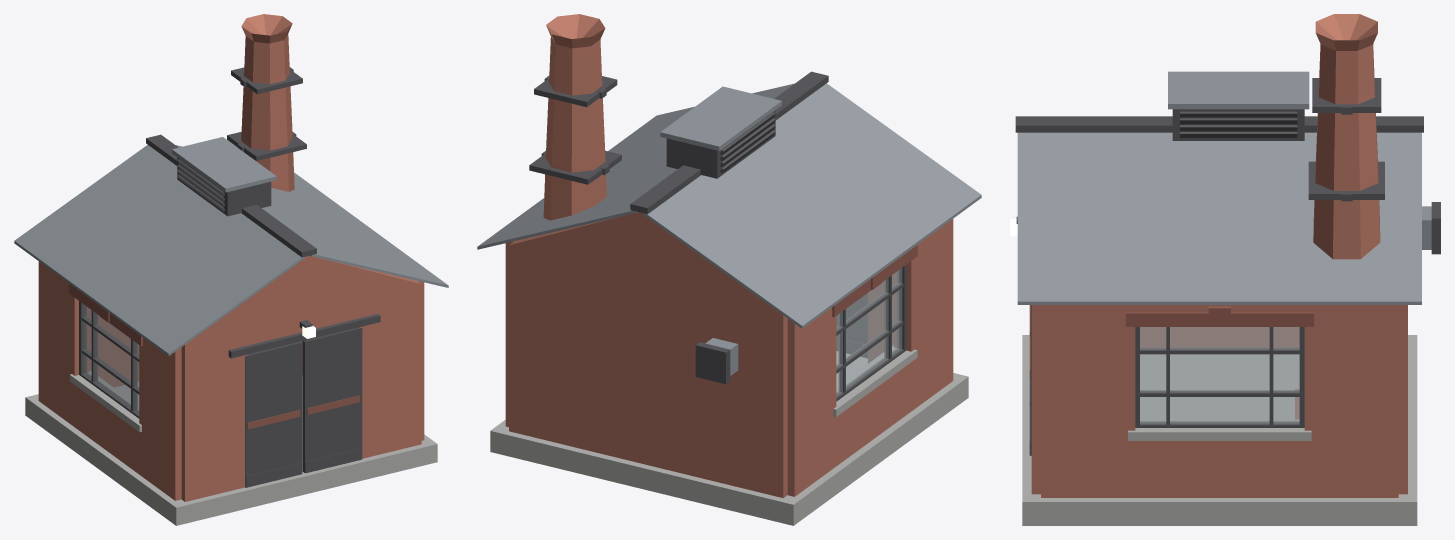
The model's file is workshop.glb.
The picture shows the model from 3 angles, left to right: view 1: azimuth 30°, elevation 25°; view 2: azimuth 150°, elevation 25°; view 3: azimuth 270°, elevation 25°; orthographic projection. The views are drawn at different scales.
Visible parts, largest first — view 1: Workshop_Roof_Slope_West, Workshop_Wall_Front_L, Workshop_Plinth, Workshop_Wall_Front_R, Workshop_Door_Leaf_R, Workshop_Roof_Slope_East, Workshop_Smokestack_Shaft, Workshop_Door_Leaf_L, Workshop_Gable_Front, Workshop_Wall_West_Low, Workshop_Wall_West_Pillar_F, Workshop_Wall_West_Pillar_B (+14 smaller); view 2: Workshop_Wall_Back, Workshop_Roof_Slope_West, Workshop_Plinth, Workshop_Smokestack_Shaft, Workshop_Gable_Back, Workshop_Wall_West_Low, Workshop_Roof_Slope_East, Workshop_Wall_West_Pillar_B, Workshop_Wall_West_Pillar_F, Workshop_Window_Glass_West, Workshop_Vent_Cap, Workshop_Roof_RidgeCap (+10 smaller); view 3: Workshop_Roof_Slope_East, Workshop_Plinth, Workshop_Wall_East_Low, Workshop_Window_Glass_East, Workshop_Smokestack_Shaft, Workshop_Wall_East_Pillar_F, Workshop_Wall_East_Pillar_B, Workshop_Vent_Cap, Workshop_Roof_RidgeCap, Workshop_Wall_West_Low, Workshop_Sill_East, Workshop_Lintel_East (+14 smaller).
Part boxes in pixels (<box>): Workshop_Roof_Slope_West: <box>14,145,305,356</box>; Workshop_Wall_Front_L: <box>181,327,247,501</box>; Workshop_Plinth: <box>25,375,437,525</box>; Workshop_Wall_Front_R: <box>358,284,421,458</box>; Workshop_Door_Leaf_R: <box>302,327,362,472</box>; Workshop_Roof_Slope_East: <box>175,145,448,287</box>; Workshop_Smokestack_Shaft: <box>241,14,294,191</box>; Workshop_Door_Leaf_L: <box>245,341,302,487</box>; Workshop_Gable_Front: <box>191,255,420,340</box>; Workshop_Wall_West_Low: <box>38,352,181,500</box>; Workshop_Wall_West_Pillar_F: <box>139,338,181,451</box>; Workshop_Wall_West_Pillar_B: <box>38,261,89,375</box>; Workshop_Wall_Back: <box>509,245,787,497</box>; Workshop_Roof_Slope_West: <box>643,83,981,328</box>; Workshop_Plinth: <box>490,351,968,525</box>; Workshop_Smokestack_Shaft: <box>543,14,606,220</box>; Workshop_Gable_Back: <box>509,212,775,310</box>; Workshop_Wall_West_Low: <box>787,324,953,496</box>; Workshop_Roof_Slope_East: <box>477,83,794,249</box>; Workshop_Wall_West_Pillar_B: <box>787,307,836,439</box>; Workshop_Wall_West_Pillar_F: <box>894,221,953,351</box>; Workshop_Window_Glass_West: <box>836,268,901,396</box>; Workshop_Vent_Cap: <box>660,86,781,150</box>; Workshop_Roof_RidgeCap: <box>630,71,828,214</box>; Workshop_Roof_Slope_East: <box>1017,132,1421,304</box>; Workshop_Plinth: <box>1022,335,1417,525</box>; Workshop_Wall_East_Low: <box>1041,433,1398,497</box>; Workshop_Window_Glass_East: <box>1140,327,1299,423</box>; Workshop_Smokestack_Shaft: <box>1313,14,1380,259</box>; Workshop_Wall_East_Pillar_F: <box>1041,305,1135,433</box>; Workshop_Wall_East_Pillar_B: <box>1304,305,1398,433</box>; Workshop_Vent_Cap: <box>1168,71,1309,109</box>; Workshop_Roof_RidgeCap: <box>1015,116,1423,132</box>; Workshop_Wall_West_Low: <box>1140,327,1299,347</box>; Workshop_Sill_East: <box>1128,420,1311,440</box>; Workshop_Lintel_East: <box>1125,312,1313,326</box>.
Size of the model in its own units: 4.5 by 5.5 by 4.58.
